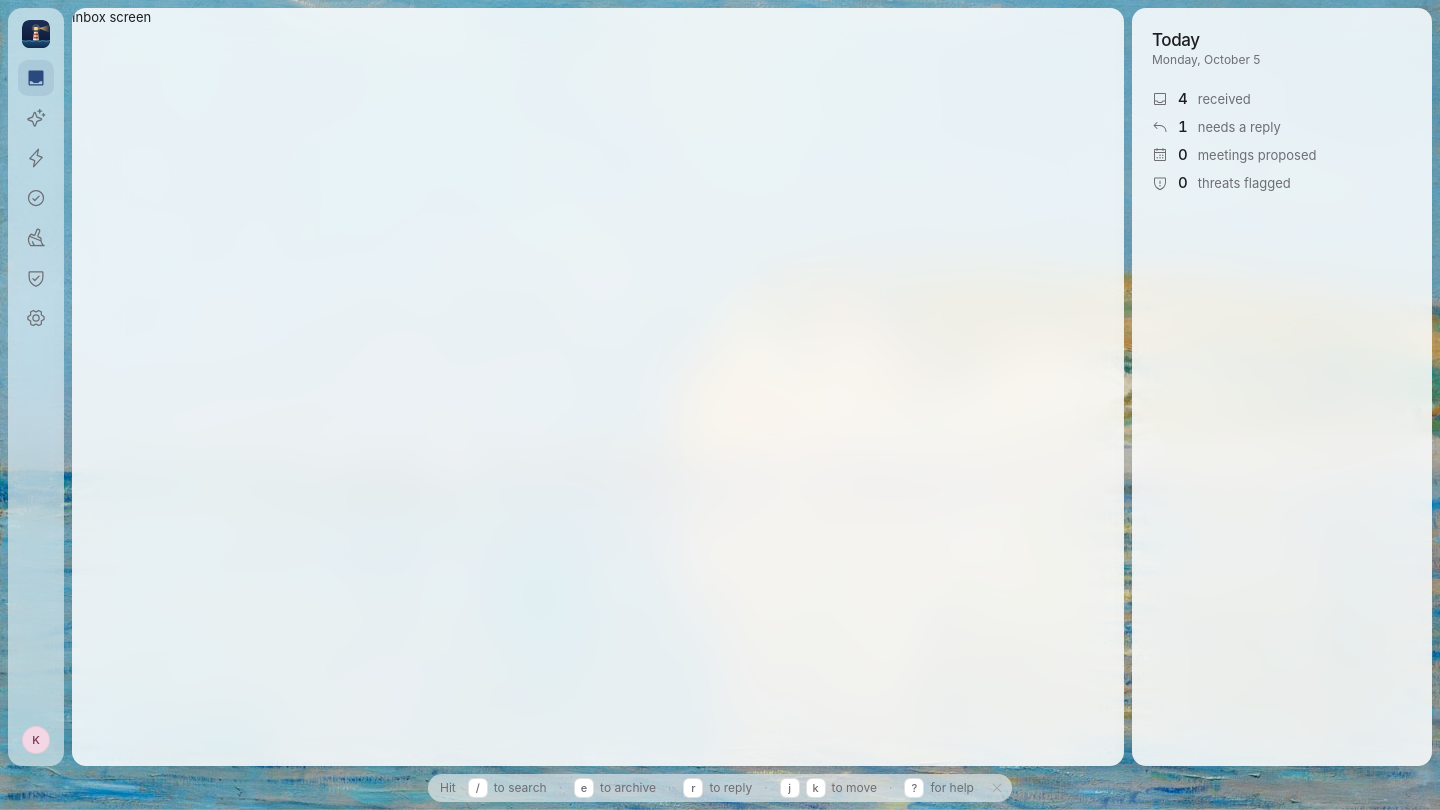
Test: Layout › opens Ask AI as a side panel from the rail, from ?ask=1, and closes it again
Expected: the element "Ask AI" is not shown
Click the button named "Ask AI" at (36, 118), box [18,100,54,136]
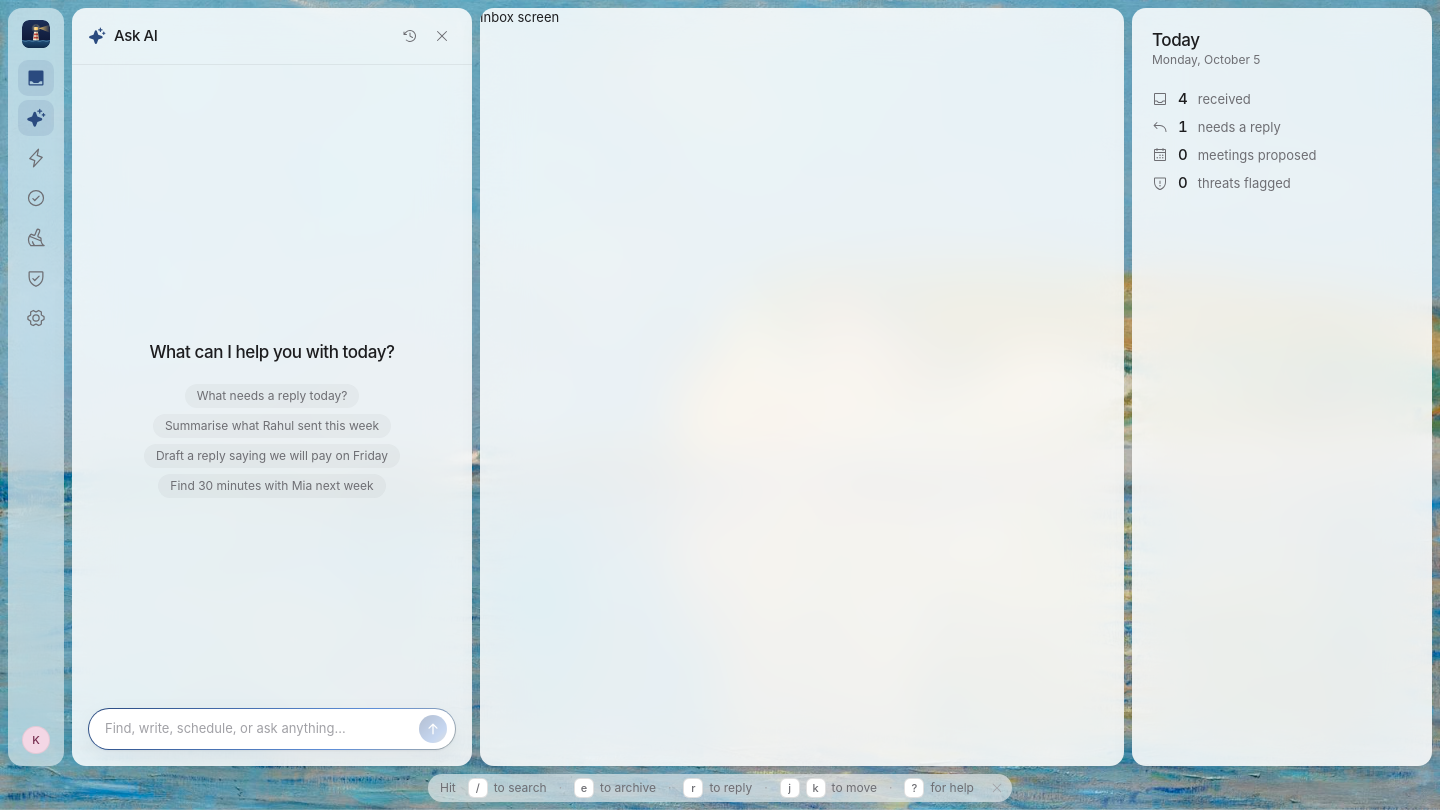
Expected: the heading "Inbox screen" is shown, [480,9,559,25]
Result: the element "Ask AI" shows "What can I help you with today?" at [149,342,394,362]
Click the button named "Close Ask AI" at (442, 36), box [428,22,456,50]
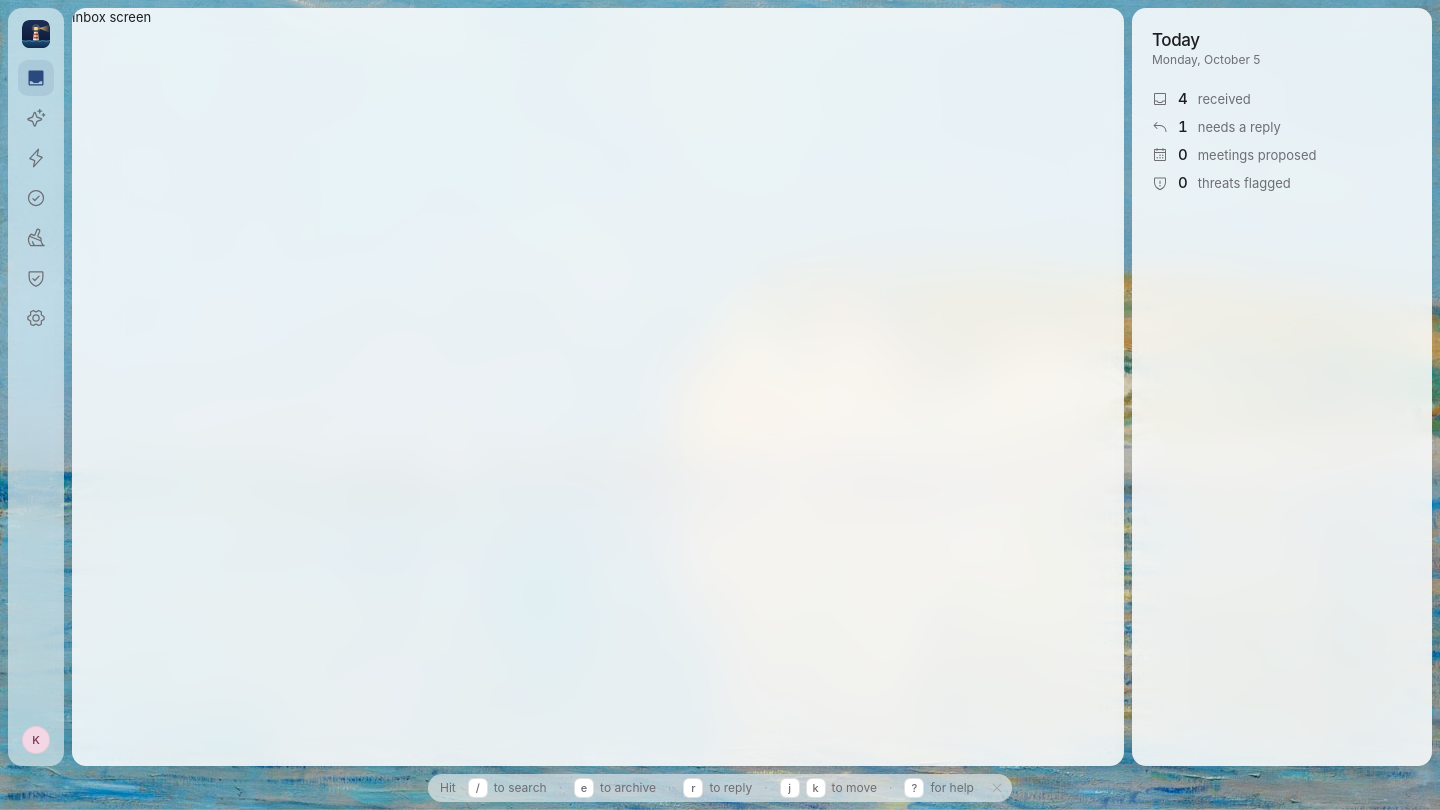
Expected: the element that starts with "Today" is shown, [1132,8,1432,766]
Result: the heading "Ask AI" is gone
